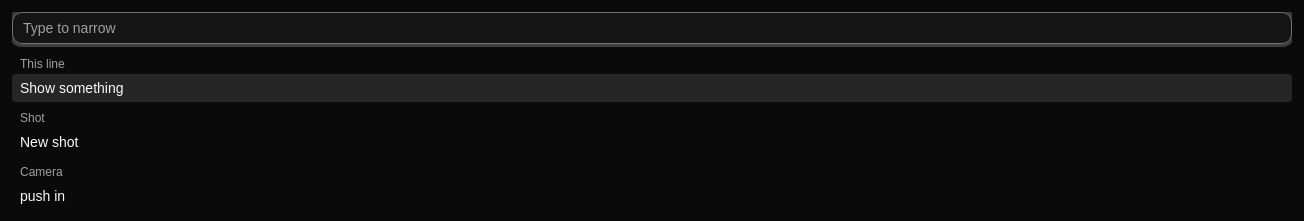
CommandMenu › narrows the list to what is typed
Type "push" into the field named "What to do" at (652,28), box [12,12,1292,44]
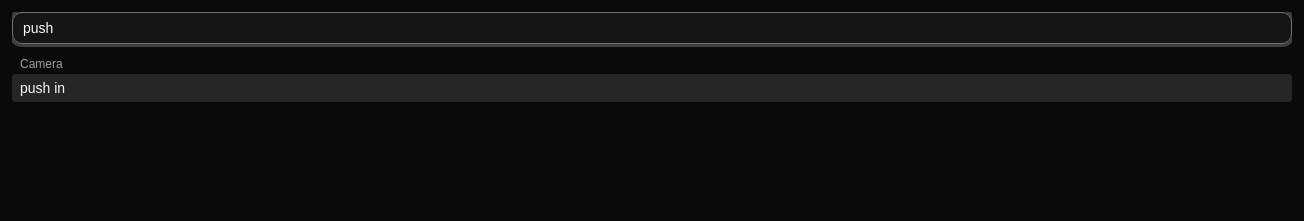
Expected: the option "push in" is shown, [12,74,1292,102]
Result: the option "New shot" is gone
